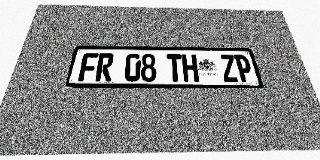0: (124, 54, 141, 82)
8: (141, 54, 156, 82)
F: (78, 53, 99, 81)
H: (182, 54, 199, 82)
P: (234, 55, 255, 82)
R: (95, 53, 114, 82)
T: (167, 54, 183, 82)
Z: (219, 55, 239, 82)
